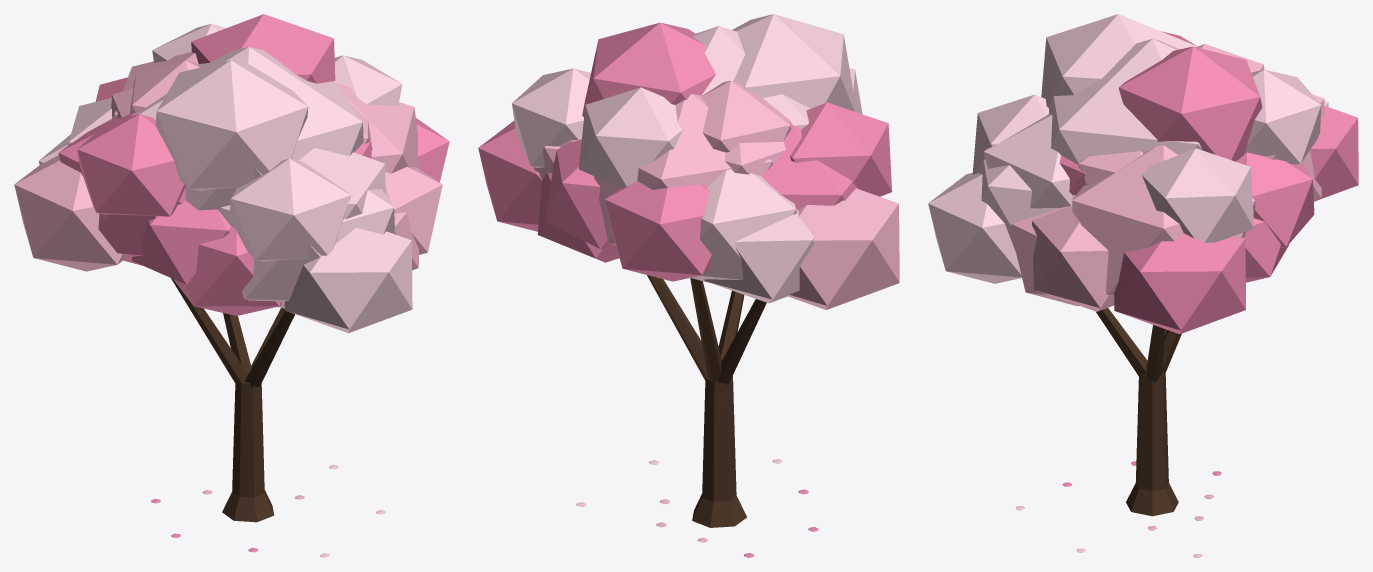
Rendered from tree_cherry.glb.
The picture shows the model from 3 angles, left to right: view 1: azimuth 30°, elevation 25°; view 2: azimuth 150°, elevation 25°; view 3: azimuth 270°, elevation 25°; orthographic projection. The views are drawn at different scales.
Parts seen in each view (by area): view 1: tree_cherry; view 2: tree_cherry; view 3: tree_cherry.
Part boxes in pixels (x1,y1,x2,y2): tree_cherry: (14, 14, 449, 557); tree_cherry: (478, 14, 899, 557); tree_cherry: (928, 14, 1358, 557).
Bounding box in the file's own units: 4.08 × 4.63 × 3.8.
